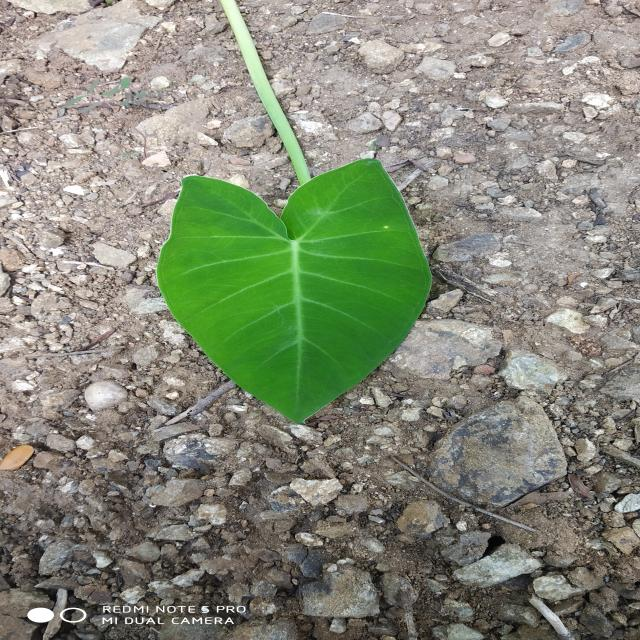taro: (158, 160, 429, 421)
